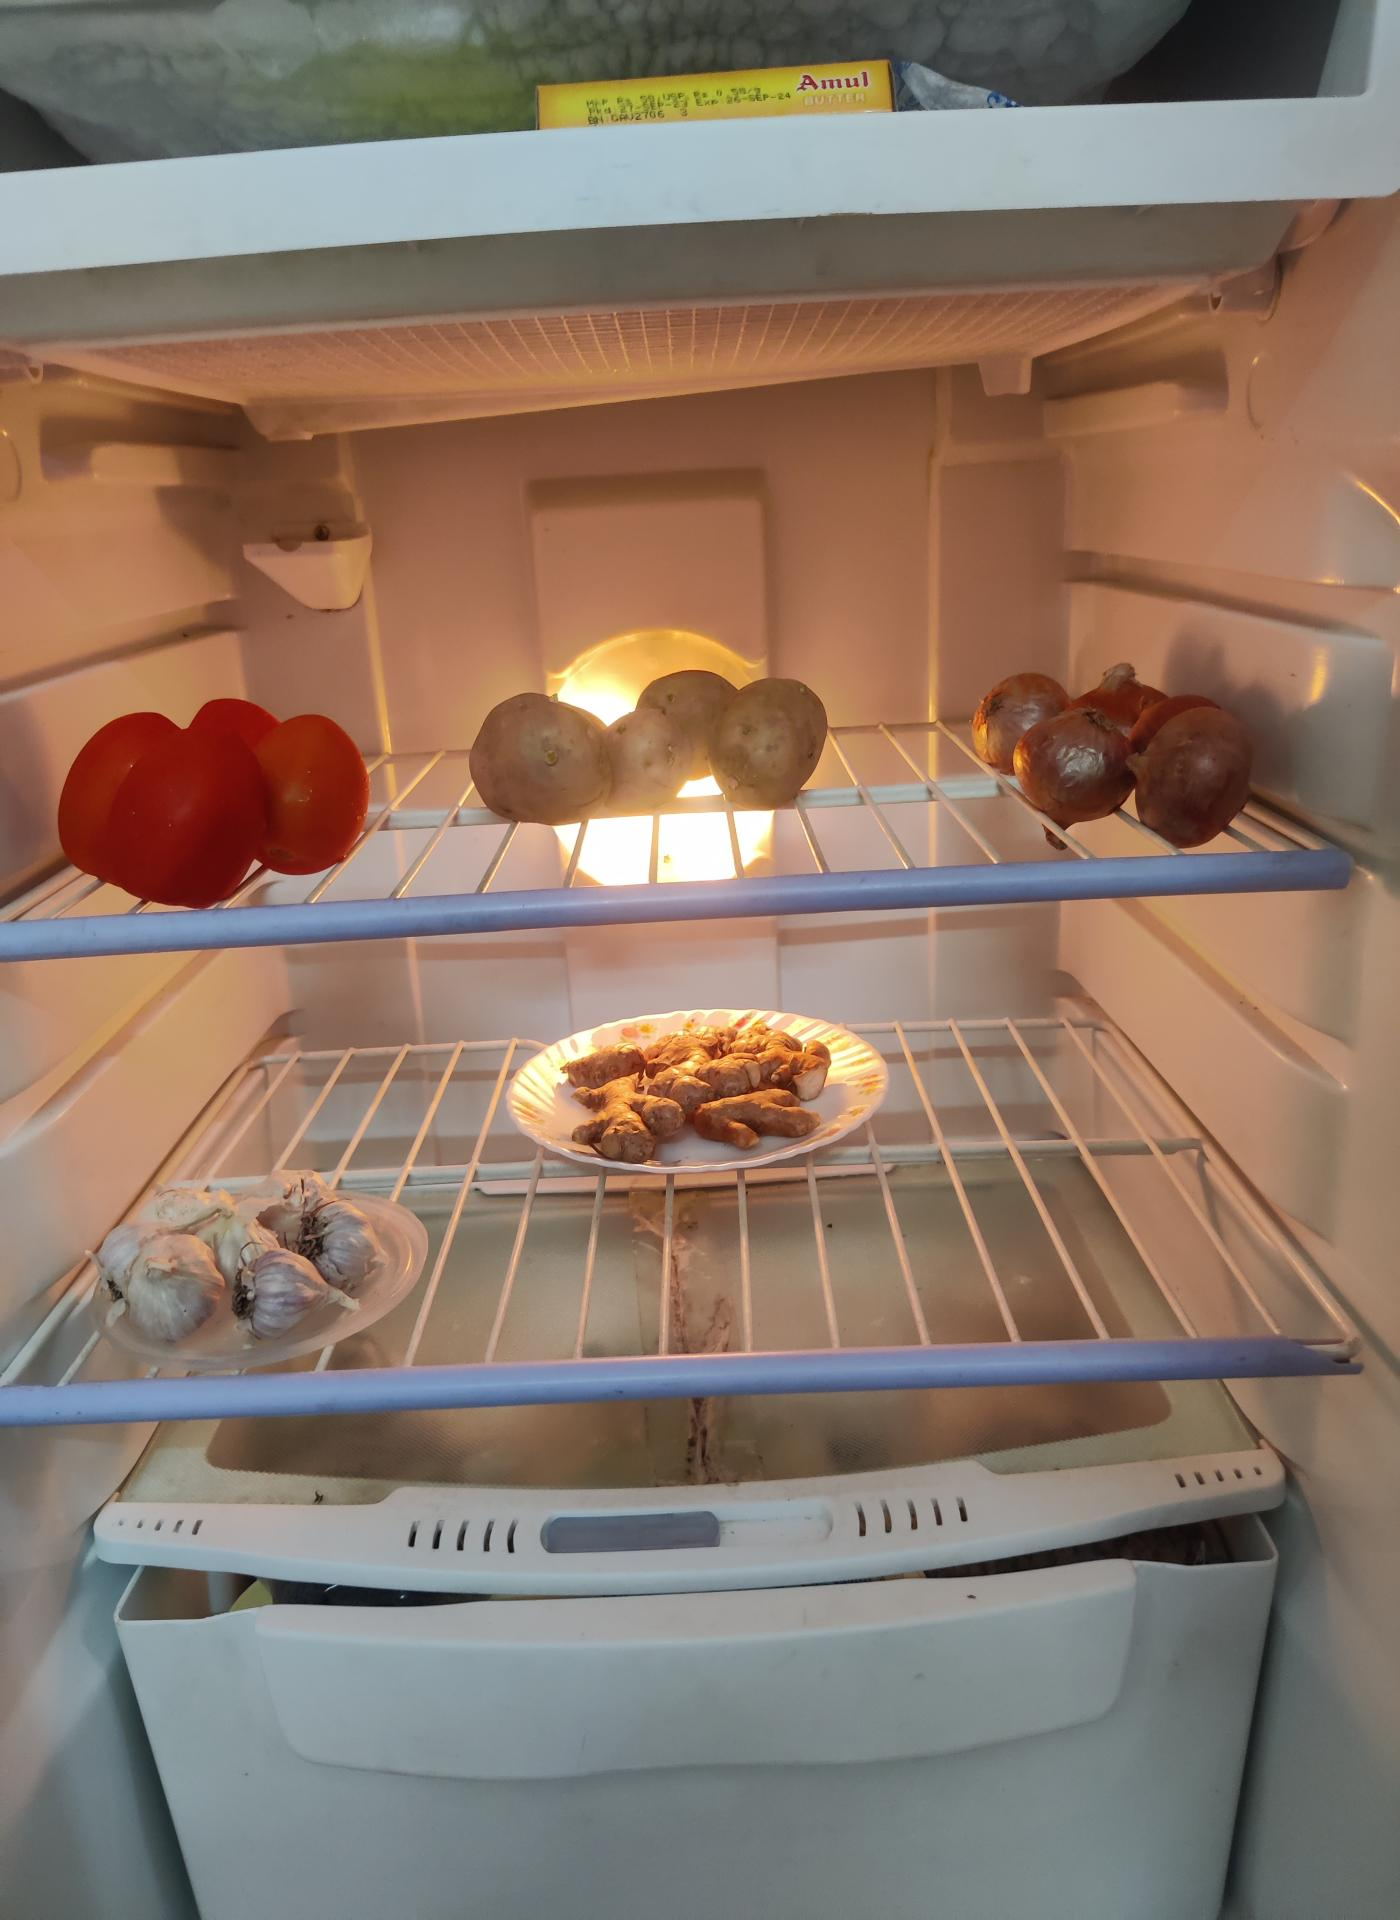garlic: (113, 1187, 386, 1357)
ginger: (552, 1009, 848, 1169)
onion: (977, 650, 1276, 847)
potato: (477, 668, 848, 826)
tomato: (55, 699, 367, 906)
